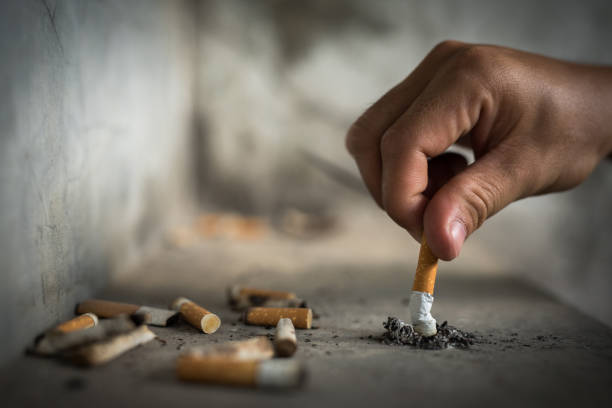cigarette: (44, 309, 150, 350), (173, 357, 309, 388), (406, 222, 440, 336), (75, 323, 158, 368), (76, 298, 184, 328), (36, 310, 100, 355), (167, 296, 223, 335), (244, 306, 314, 331), (227, 284, 297, 302), (274, 316, 298, 358)
